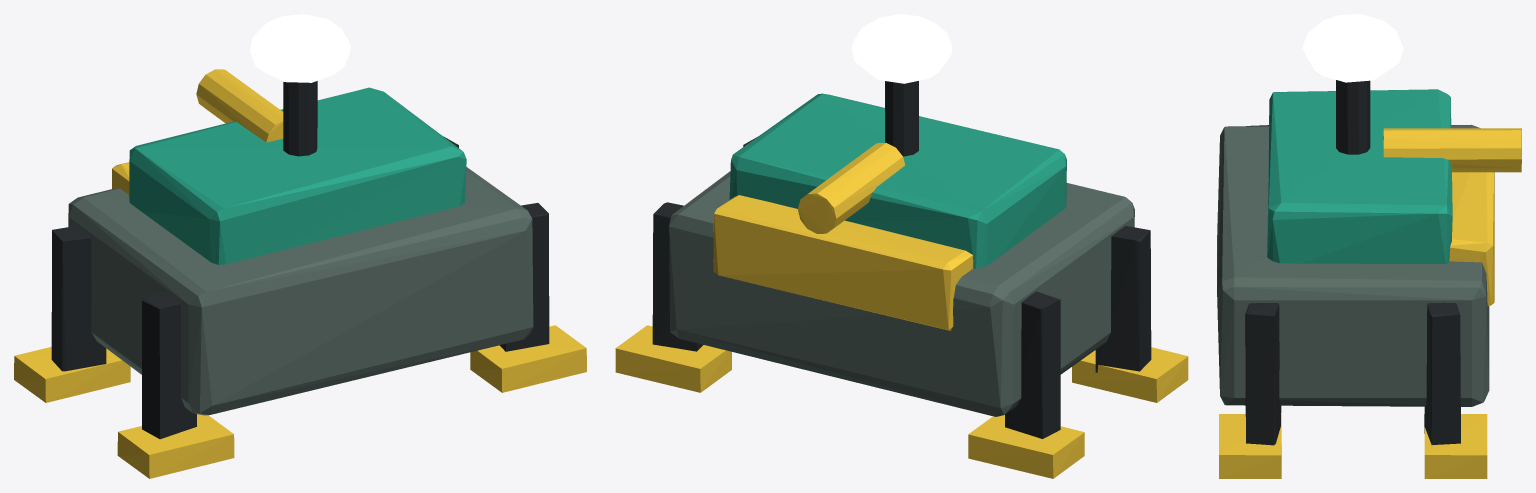
Rendered from SM_Coalition_CO_KamakiriWalker_LOD2.fbx.
The picture shows the model from 3 angles, left to right: view 1: azimuth 30°, elevation 25°; view 2: azimuth 150°, elevation 25°; view 3: azimuth 270°, elevation 25°; orthographic projection.
Visible parts, largest first — view 1: LOD02_SM_Coalition_CO_KamakiriWalker; view 2: LOD02_SM_Coalition_CO_KamakiriWalker; view 3: LOD02_SM_Coalition_CO_KamakiriWalker.
Boxes of the visible parts, box(x1,y1,x2,y2) form: LOD02_SM_Coalition_CO_KamakiriWalker: box(14, 14, 586, 478); LOD02_SM_Coalition_CO_KamakiriWalker: box(615, 14, 1188, 478); LOD02_SM_Coalition_CO_KamakiriWalker: box(1217, 14, 1521, 478).
Bounding box in the file's own units: 348 × 211 × 269.
